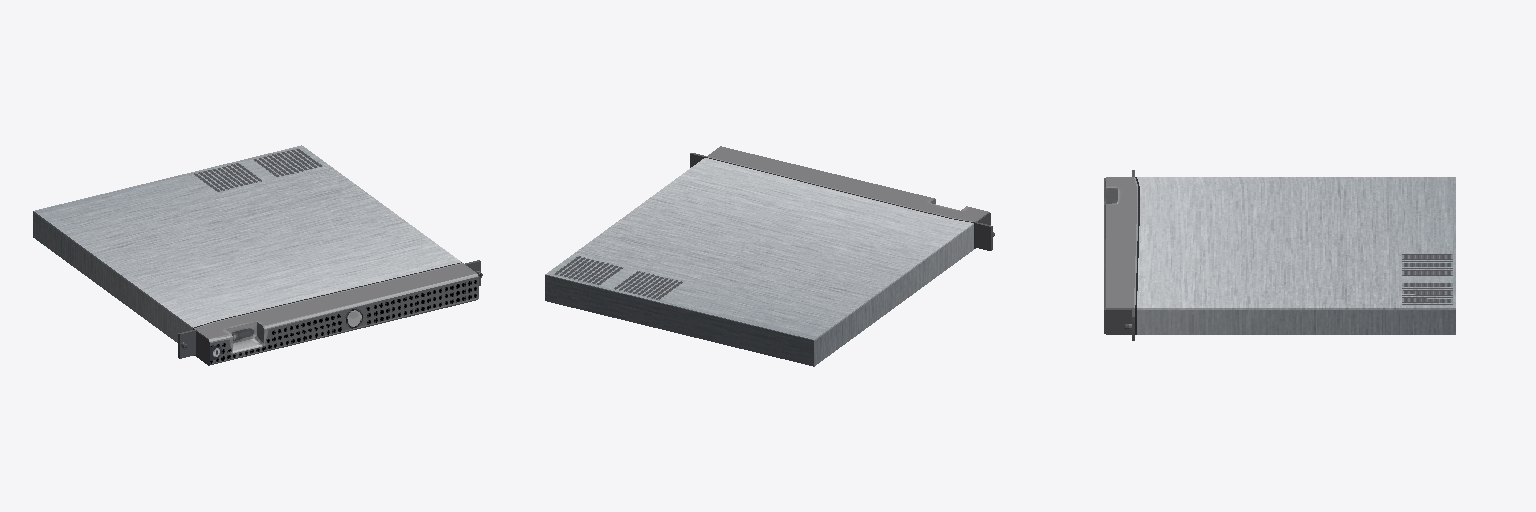
3 views of the same model, side by side, from view 1: azimuth 30°, elevation 25°; view 2: azimuth 150°, elevation 25°; view 3: azimuth 270°, elevation 25° (orthographic).
Parts seen in each view (by area): view 1: Box001; view 2: Box001; view 3: Box001.
Boxes of the visible parts, x1,y1,x2,y2 form: Box001: [33, 145, 482, 365]; Box001: [545, 146, 994, 366]; Box001: [1104, 170, 1455, 340].
Bounding box in the file's own units: 20.05 × 1.7 × 20.38.
1 materials, 1 textured.